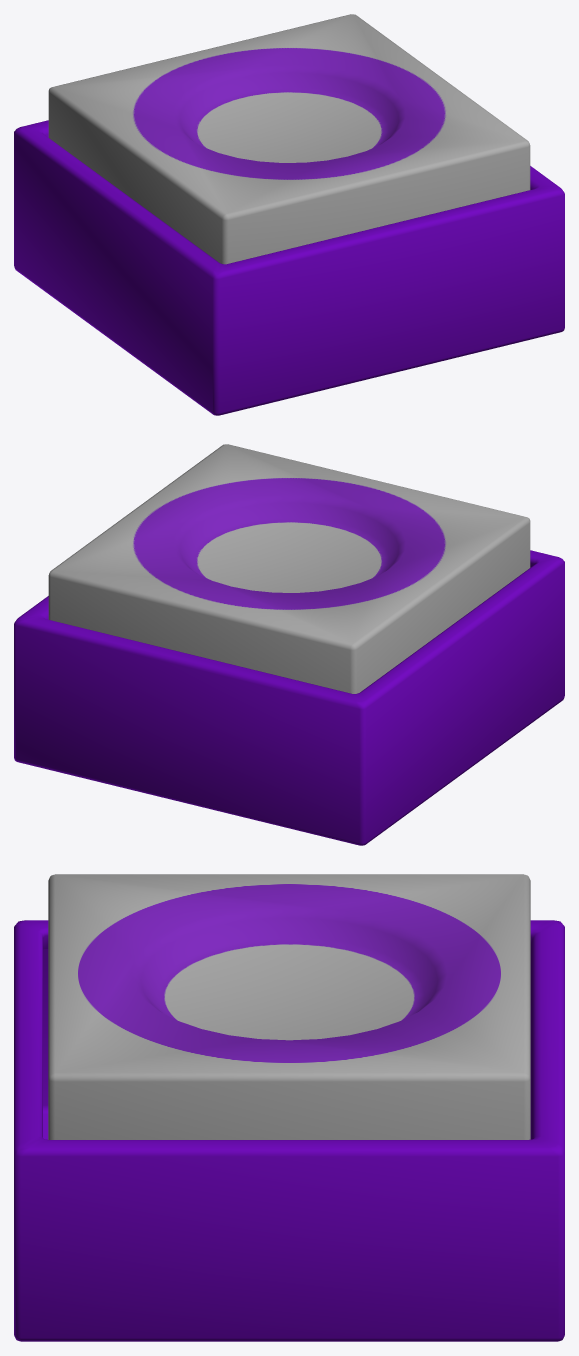
Rendered from SM_Plate_Area.fbx.
The picture shows the model from 3 angles, top to bottom: view 1: azimuth 30°, elevation 25°; view 2: azimuth 150°, elevation 25°; view 3: azimuth 270°, elevation 25°; orthographic projection. The views are drawn at different scales.
Visible parts, largest first — view 1: Plate_Area; view 2: Plate_Area; view 3: Plate_Area.
Boxes of the visible parts, <box> form: Plate_Area: <box>14,14,564,415</box>; Plate_Area: <box>14,444,564,845</box>; Plate_Area: <box>14,874,564,1341</box>.
Bounding box in the file's own units: 200 × 102 × 200.
